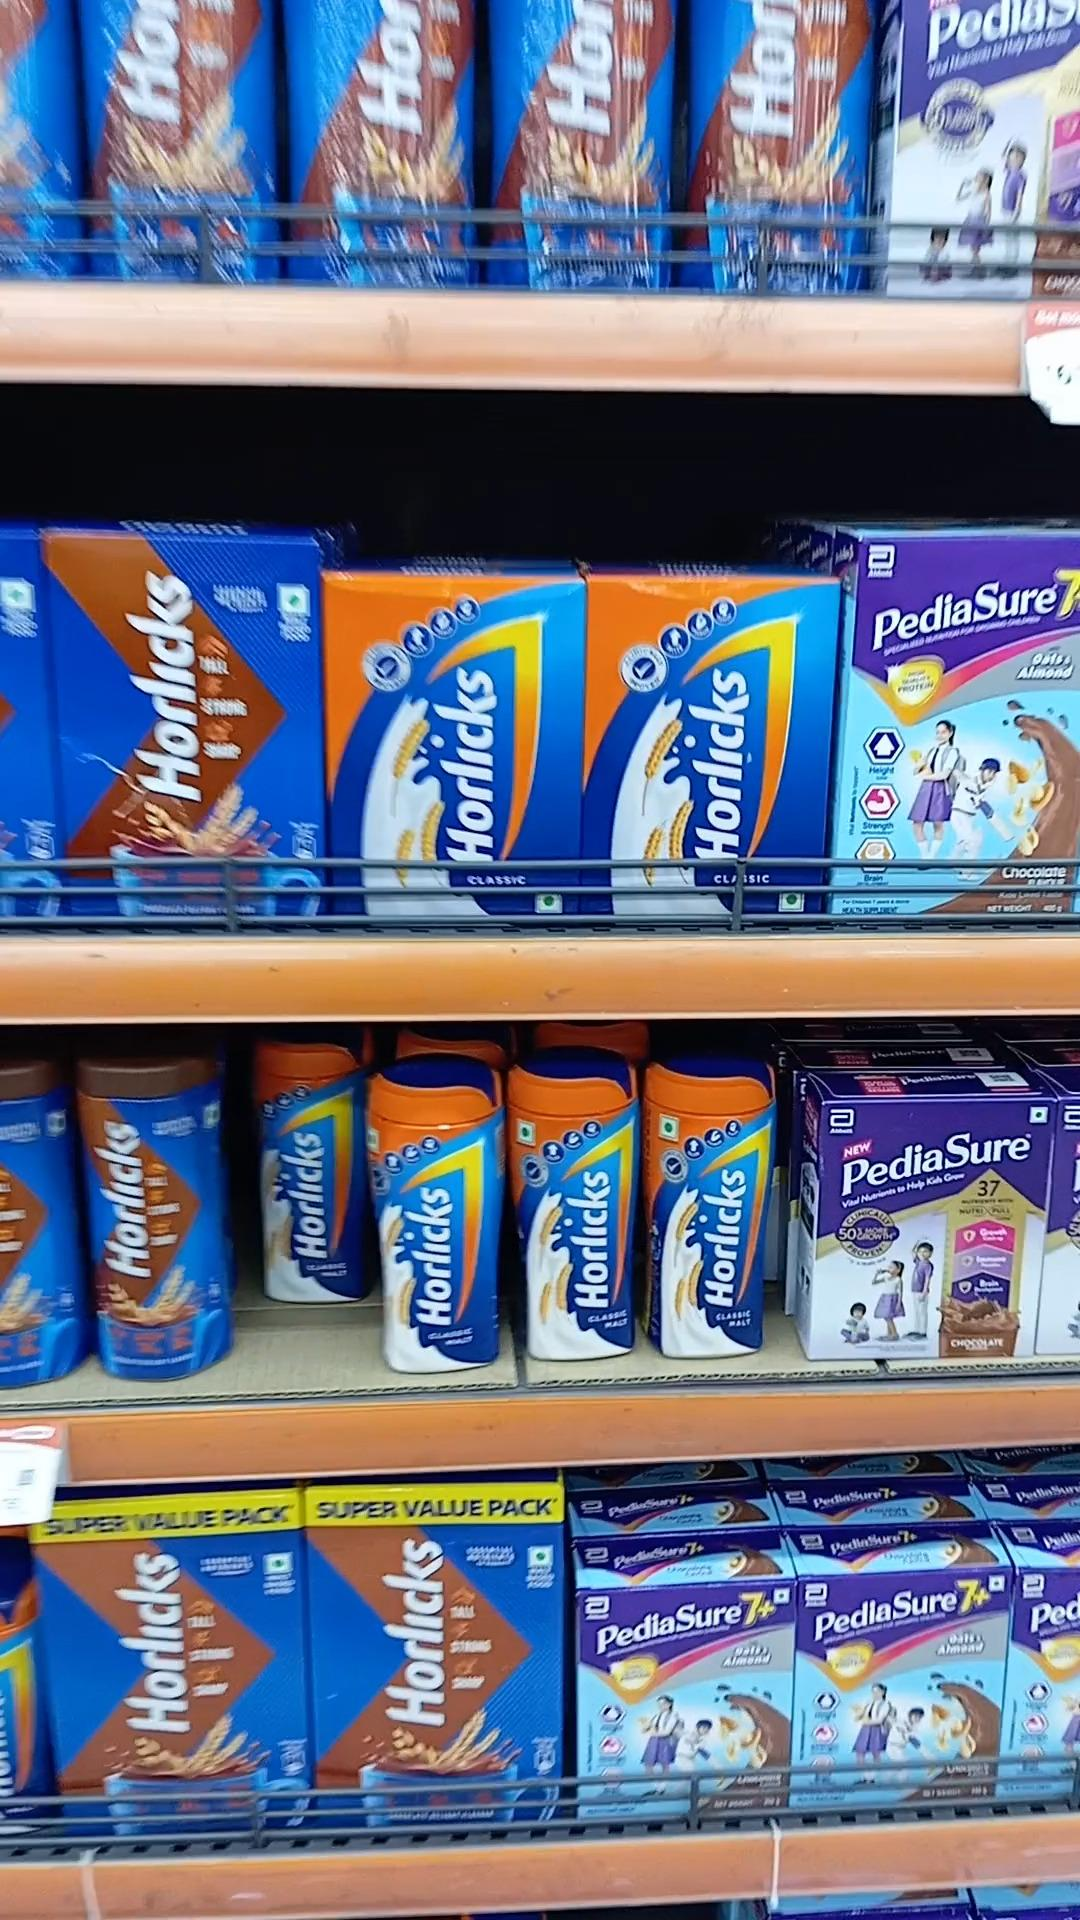HORLICK_CHOCOLATE_1_KG_PACK: (41, 1497, 298, 1834), (309, 1490, 564, 1820)
HORLICK_CHOCOLATE_500_G_JAR: (86, 1055, 236, 1377)
HORLICK_CHOCOLATE_500_G_PACK: (54, 531, 320, 926)
HORLICK_CLASSIC_MALT_500_G_JAR: (373, 1060, 501, 1373), (646, 1055, 777, 1360), (512, 1056, 634, 1358), (255, 1031, 361, 1305)
HORLICK_CLASSIC_MALT_500_G_PACK: (328, 576, 576, 915), (587, 578, 820, 918)
PEDIASURE_7_PLUS_CHOCOLATE_400_G_PACK: (845, 538, 1079, 922), (579, 1585, 794, 1820), (802, 1576, 997, 1805)
PEDIASURE_CHOCOLATE_500_G_PACK: (815, 1100, 1036, 1362)
